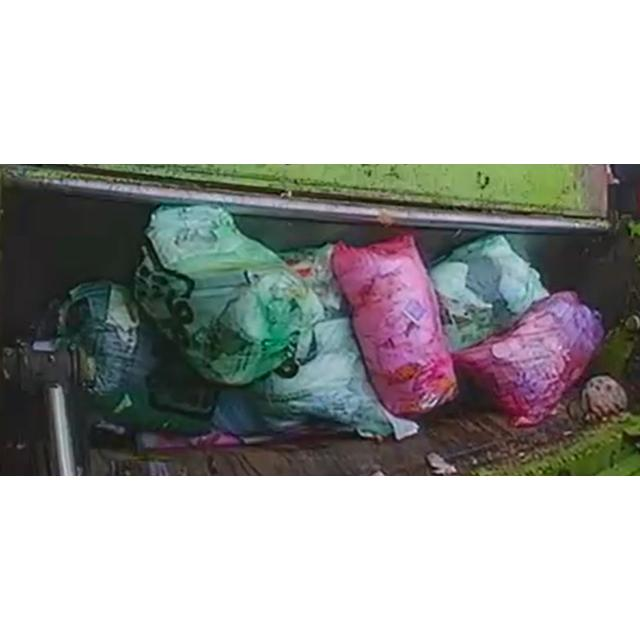general_trashbag: (235, 244, 418, 439), (135, 205, 324, 385), (58, 282, 218, 433), (430, 235, 549, 351)
other_trashbag: (332, 235, 458, 416), (452, 292, 604, 426)
